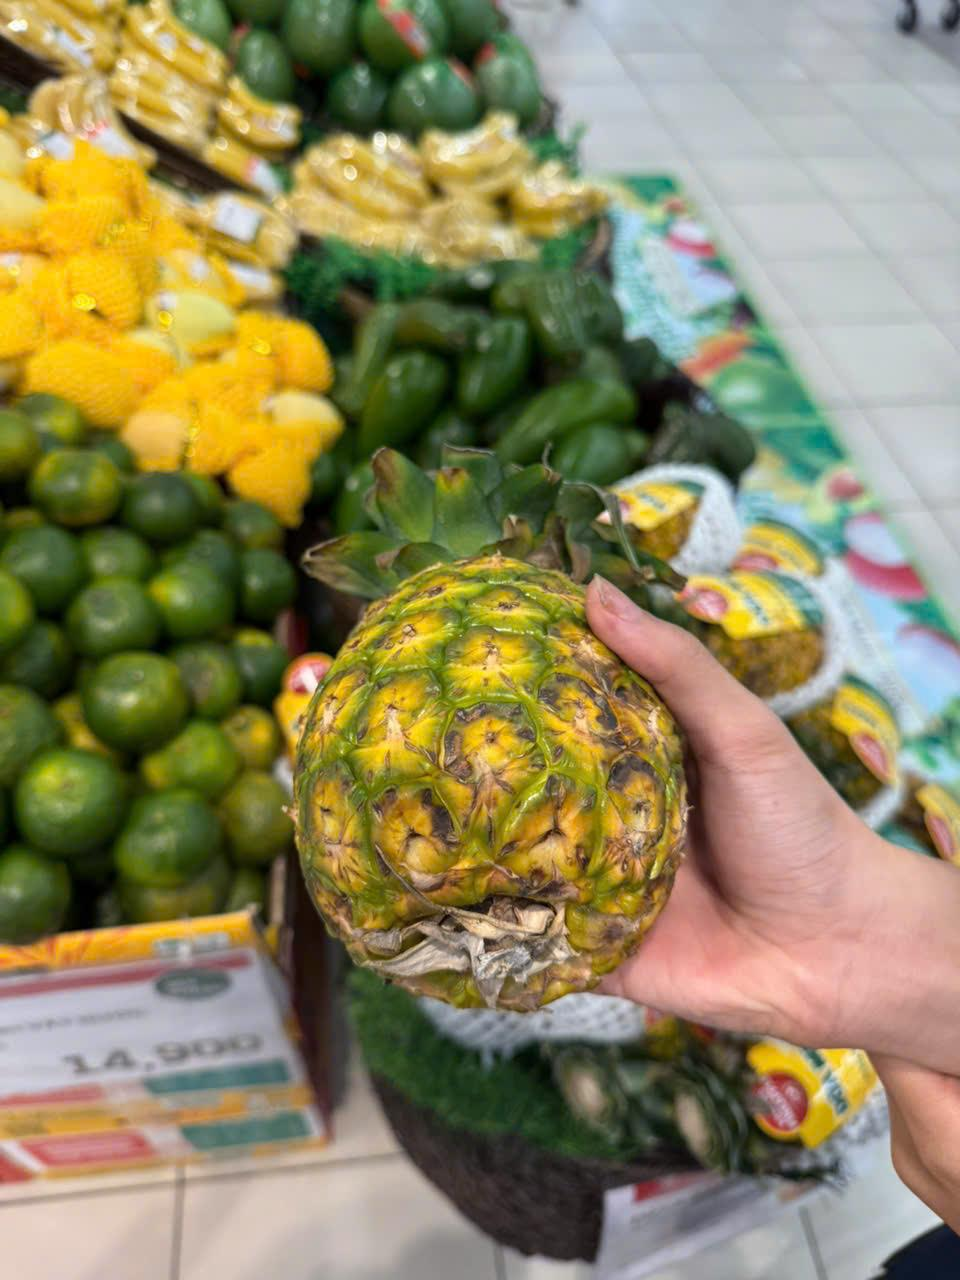pineapple: (240, 449, 710, 1048)
